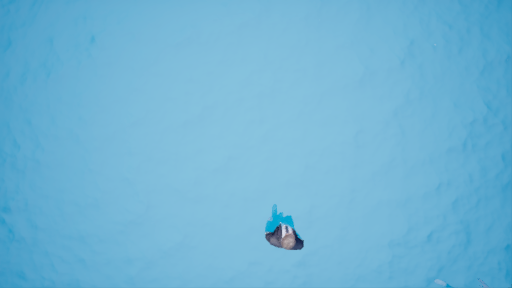person: (262, 203, 313, 252)
